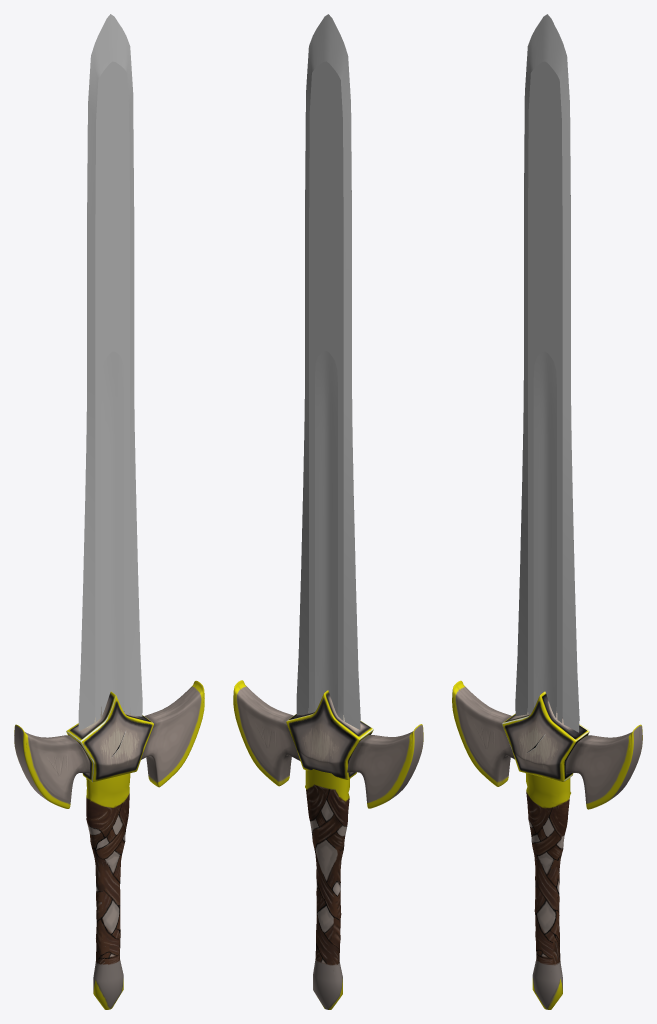
The model's file is Noah_espada.obj.
The picture shows the model from 3 angles, left to right: view 1: azimuth 30°, elevation 25°; view 2: azimuth 150°, elevation 25°; view 3: azimuth 330°, elevation 25°; orthographic projection.
Parts seen in each view (by area): view 1: Lamina.002_Untitled.001, Empunhadura_Untitled.002, Bocal_Cube.001, Bocal_E_Cube.002, Bocal_E.001_Cube.000; view 2: Lamina.002_Untitled.001, Empunhadura_Untitled.002, Bocal_Cube.001, Bocal_E.001_Cube.000, Bocal_E_Cube.002; view 3: Lamina.002_Untitled.001, Empunhadura_Untitled.002, Bocal_Cube.001, Bocal_E.001_Cube.000, Bocal_E_Cube.002.
Boxes of the visible parts, x1,y1,x2,y2 form: Lamina.002_Untitled.001: [78, 14, 142, 731]; Empunhadura_Untitled.002: [86, 773, 130, 1009]; Bocal_Cube.001: [66, 691, 153, 782]; Bocal_E_Cube.002: [14, 724, 90, 808]; Bocal_E.001_Cube.000: [141, 680, 204, 787]; Lamina.002_Untitled.001: [296, 14, 360, 729]; Empunhadura_Untitled.002: [305, 769, 349, 1009]; Bocal_Cube.001: [286, 690, 373, 779]; Bocal_E.001_Cube.000: [233, 680, 300, 786]; Bocal_E_Cube.002: [347, 724, 423, 808]; Lamina.002_Untitled.001: [515, 14, 579, 732]; Empunhadura_Untitled.002: [525, 773, 570, 1009]; Bocal_Cube.001: [502, 691, 589, 781]; Bocal_E.001_Cube.000: [565, 724, 642, 809]; Bocal_E_Cube.002: [452, 680, 514, 786].
Size of the model in its own units: 0.2789 by 1.46 by 0.057.
